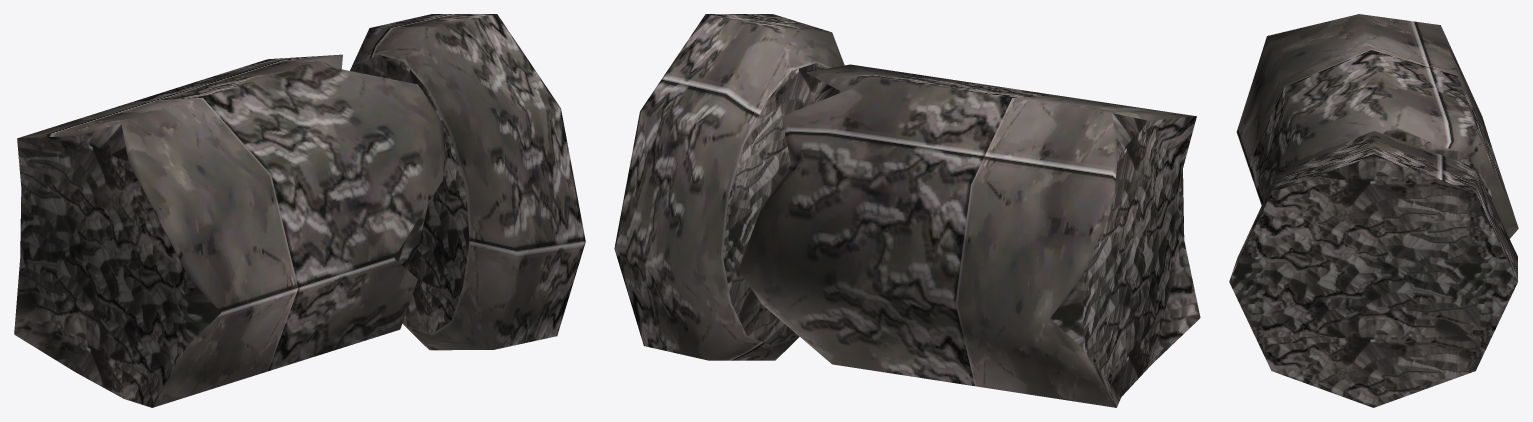
The model's file is INST_SM_COLUMN_BROKEN_PIECED.obj.
3 renders of one model, left to right at view 1: azimuth 30°, elevation 25°; view 2: azimuth 150°, elevation 25°; view 3: azimuth 270°, elevation 25°, orthographic. The views are drawn at different scales.
Visible parts, largest first — view 1: broken piece d; view 2: broken piece d; view 3: broken piece d.
Part boxes in pixels (x1,y1,x2,y2): broken piece d: (14, 14, 585, 407); broken piece d: (614, 14, 1200, 407); broken piece d: (1229, 14, 1518, 407).
Bounding box in the file's own units: 392 × 274 × 282.
